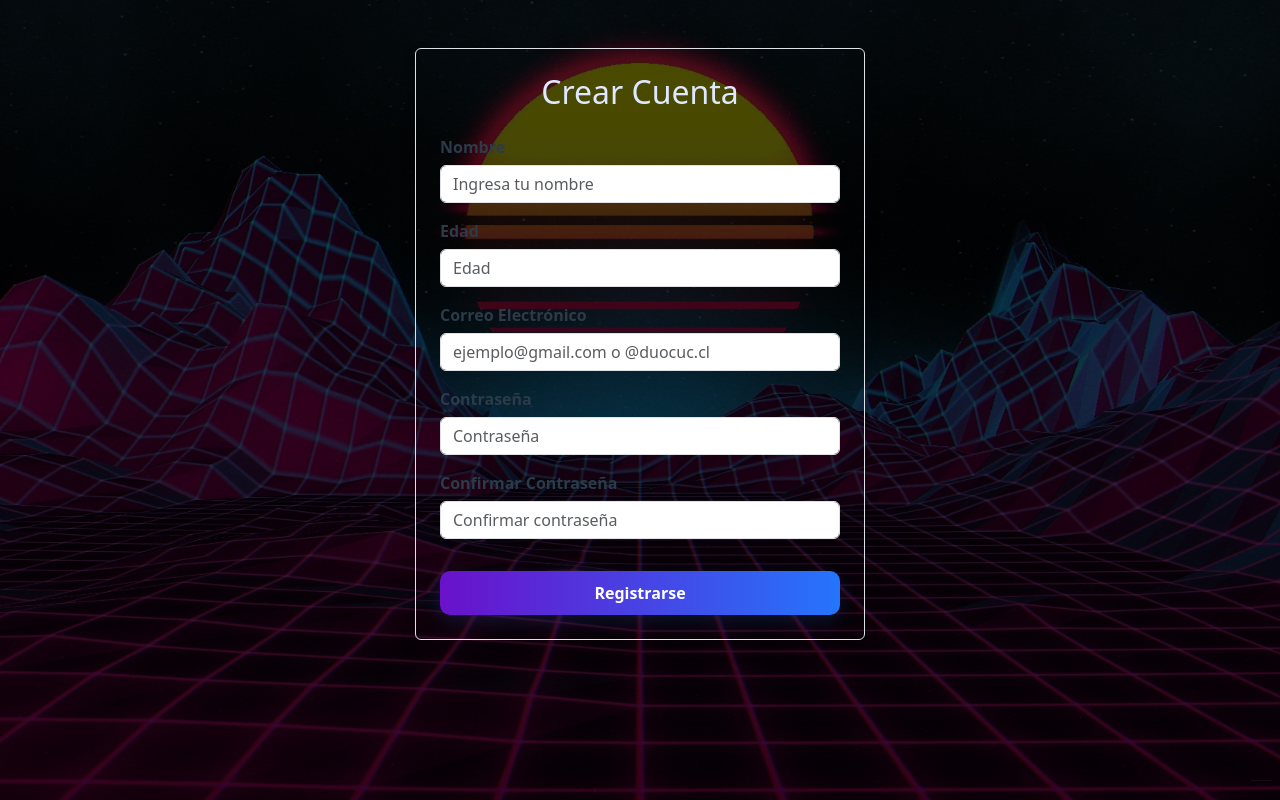
Test: Componente Registro › muestra error si las contraseñas no coinciden
The width and height of the screenshot is (1280, 800).
Type "Juan" into the field with placeholder "Ingresa tu nombre" at coordinates (640, 184), box [440,165,840,203]
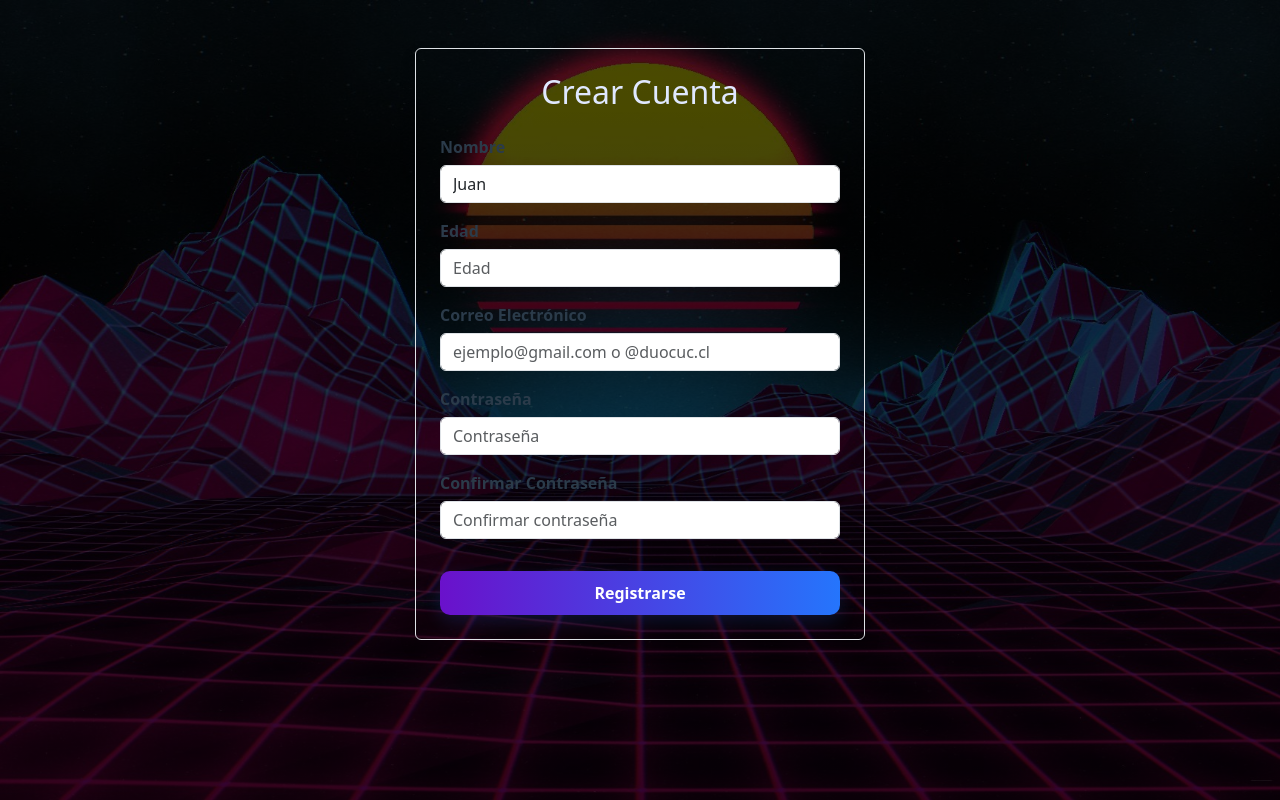
Type "25" into the number field with placeholder "Edad" at coordinates (640, 268), box [440,249,840,287]
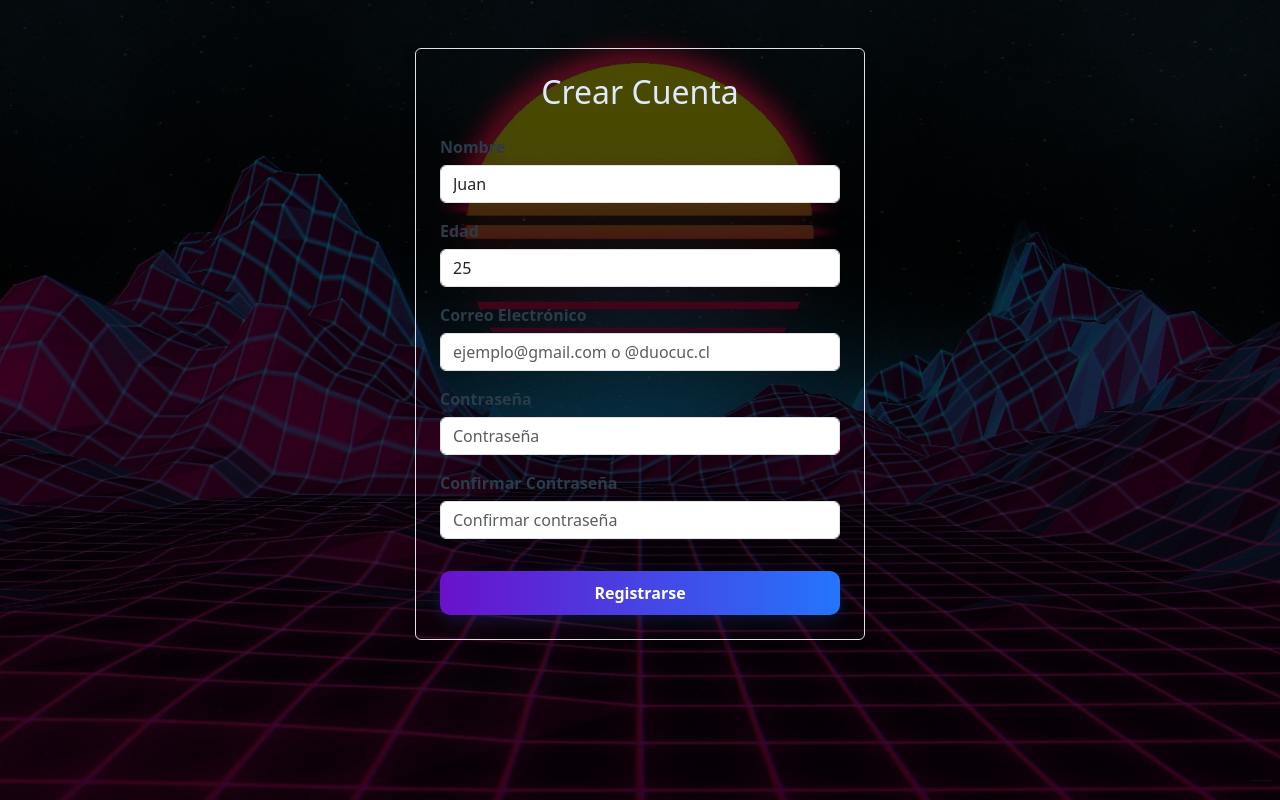
Type "juan@gmail.com" into the field with placeholder "ejemplo@gmail.com o @duocuc.cl" at coordinates (640, 352), box [440,333,840,371]
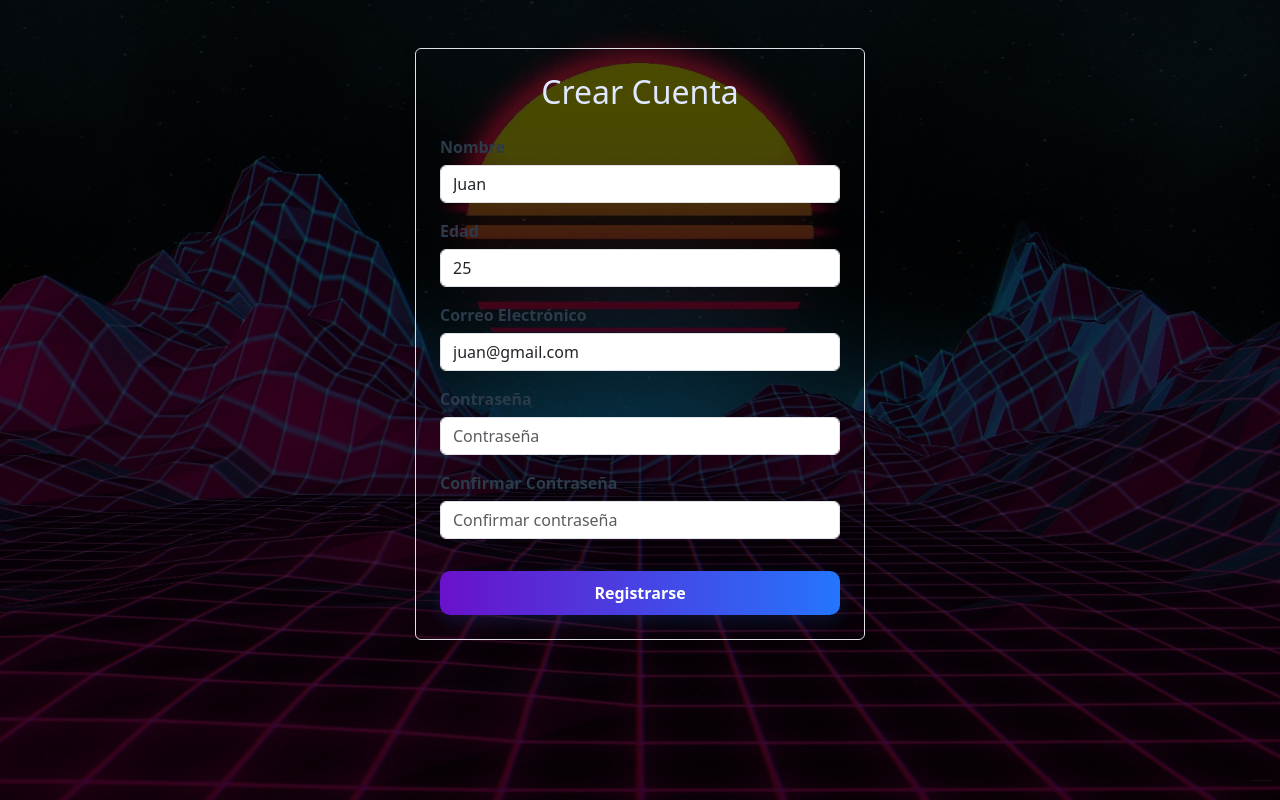
Type "1234" into the password field with placeholder "Contraseña" at coordinates (640, 436), box [440,417,840,455]
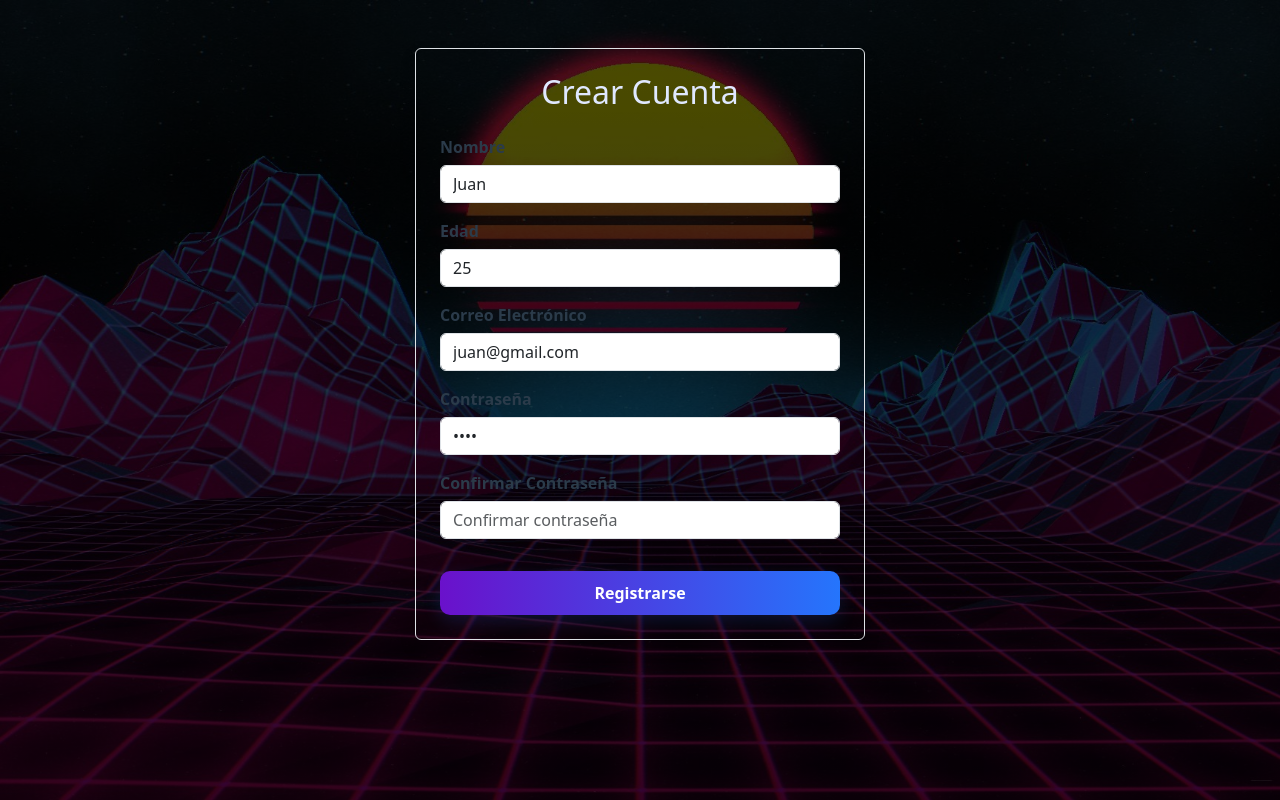
Type "abcd" into the password field with placeholder "Confirmar Contraseña" at coordinates (640, 520), box [440,501,840,539]
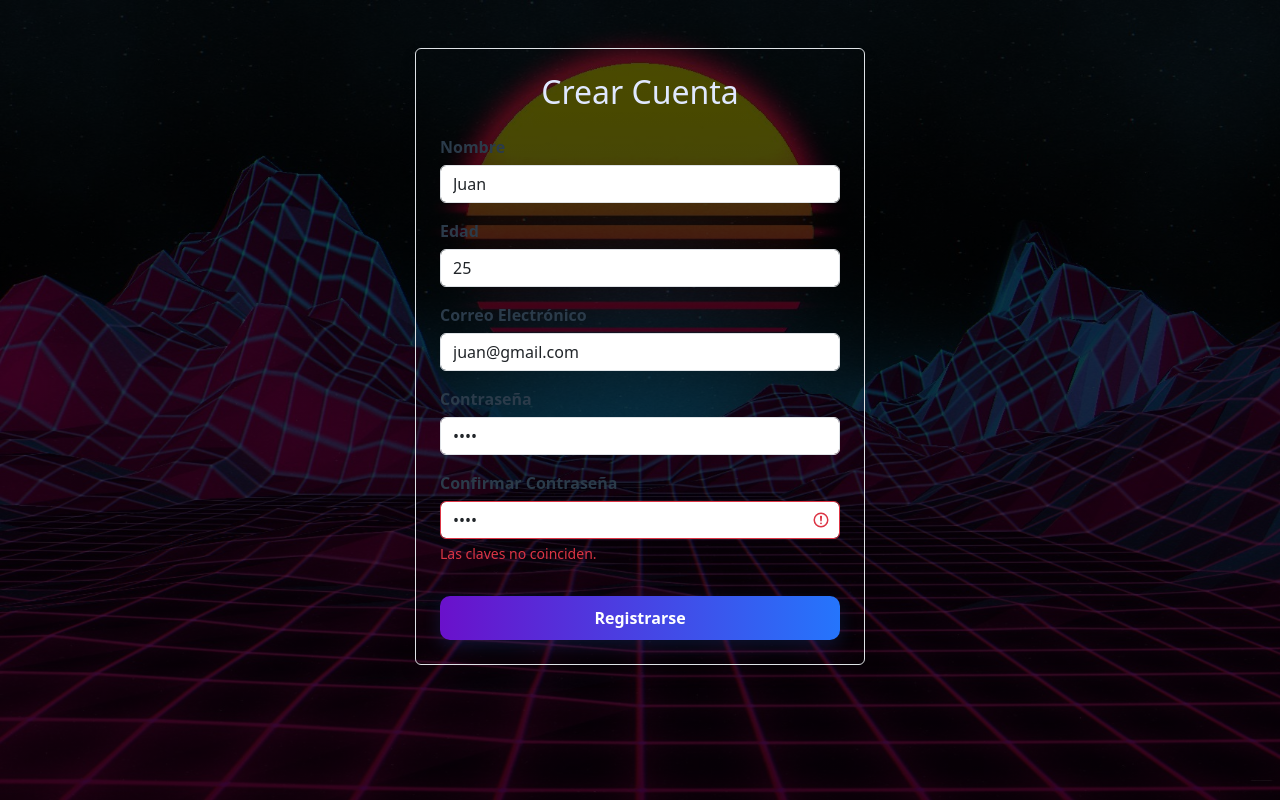
Click the button "Registrarse" at coordinates (640, 618), box [440,596,840,640]
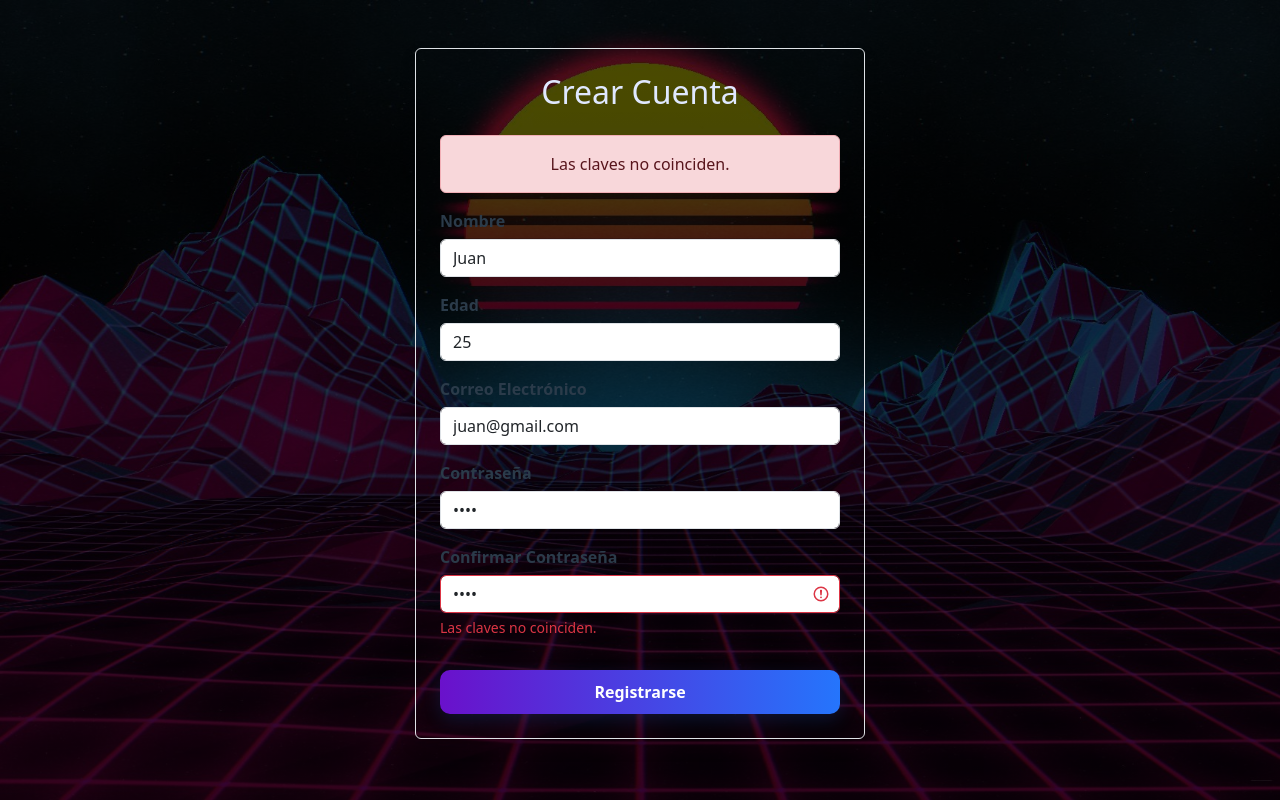
Now the text "Las claves no coinciden." is shown 2 times, box [440,135,840,193]; [440,618,596,637]
